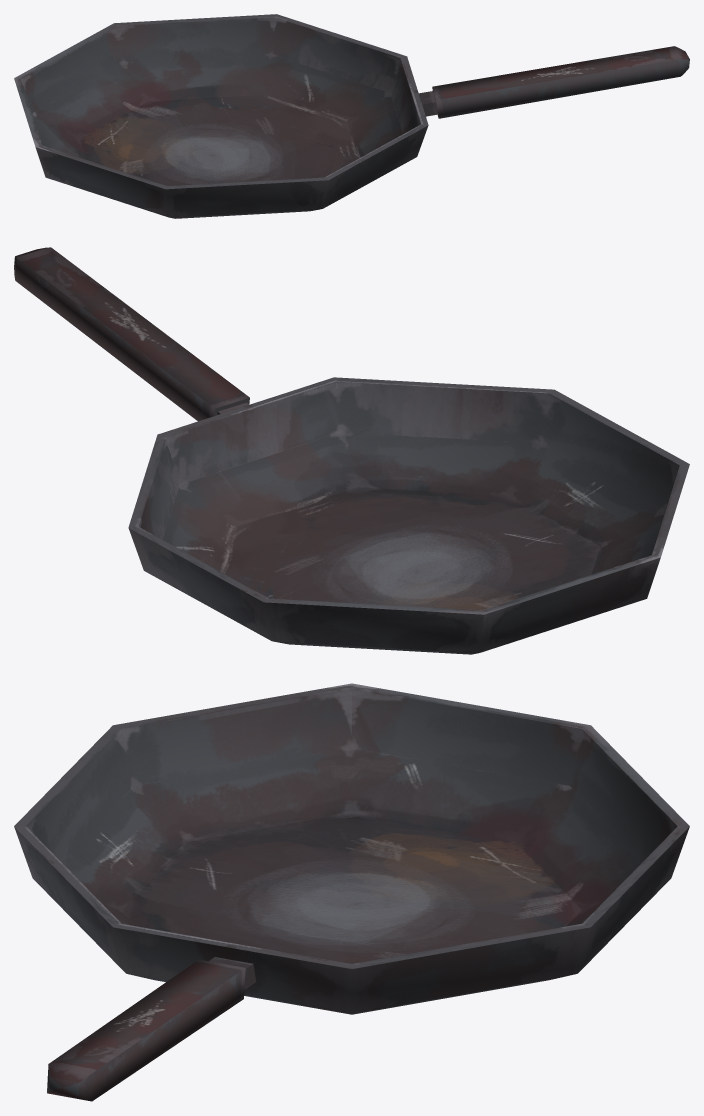
Rendered from sarten_grande.fbx.
The picture shows the model from 3 angles, top to bottom: view 1: azimuth 30°, elevation 25°; view 2: azimuth 150°, elevation 25°; view 3: azimuth 270°, elevation 25°; orthographic projection. The views are drawn at different scales.
Visible parts, largest first — view 1: Sarten_mediana_term; view 2: Sarten_mediana_term; view 3: Sarten_mediana_term.
Part boxes in pixels (x1,y1,x2,y2): Sarten_mediana_term: (14,14,689,218); Sarten_mediana_term: (14,247,689,654); Sarten_mediana_term: (14,683,689,1101).
Size of the model in its own units: 36.44 by 4.97 by 24.
1 material, 1 textured.
